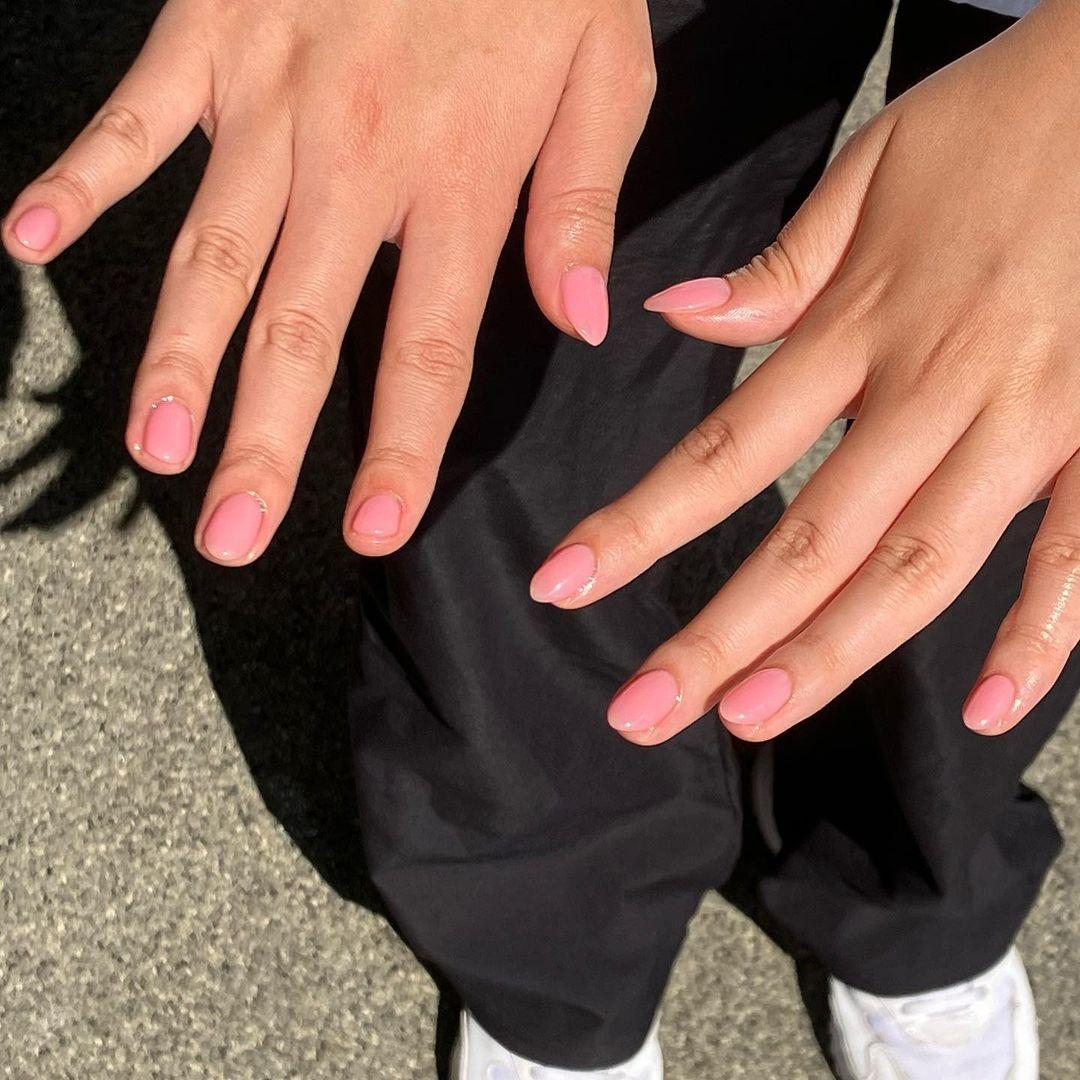nail: (199, 488, 267, 563), (605, 667, 680, 734), (717, 665, 792, 727), (558, 262, 610, 346), (528, 541, 596, 605), (140, 394, 194, 466), (642, 275, 732, 314), (960, 672, 1016, 733), (349, 490, 403, 541), (11, 203, 59, 252)
